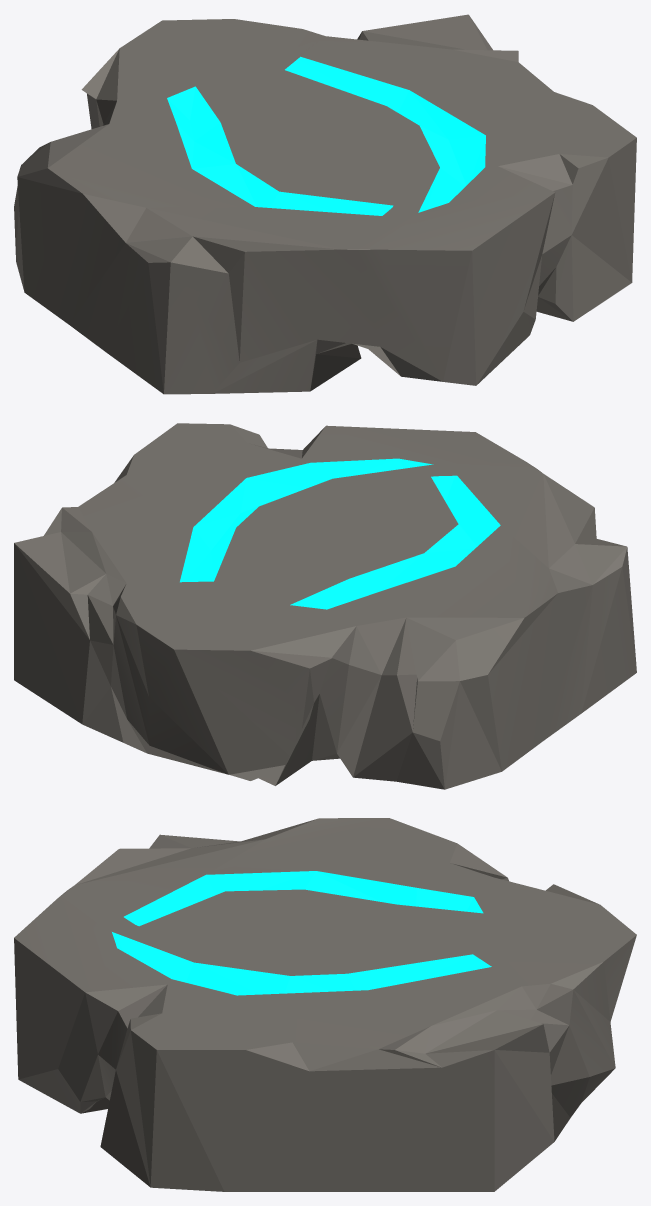
The picture shows the model from 3 angles, top to bottom: view 1: azimuth 30°, elevation 25°; view 2: azimuth 150°, elevation 25°; view 3: azimuth 270°, elevation 25°; orthographic projection. The views are drawn at different scales.
Visible parts, largest first — view 1: Obj3d66-1649282-90-540; view 2: Obj3d66-1649282-90-540; view 3: Obj3d66-1649282-90-540.
Part boxes in pixels (x1,y1,x2,y2): Obj3d66-1649282-90-540: (14, 14, 636, 394); Obj3d66-1649282-90-540: (14, 423, 636, 789); Obj3d66-1649282-90-540: (14, 818, 636, 1191).
Size of the model in its own units: 959 by 274 by 1089.
1 material, 1 textured.
